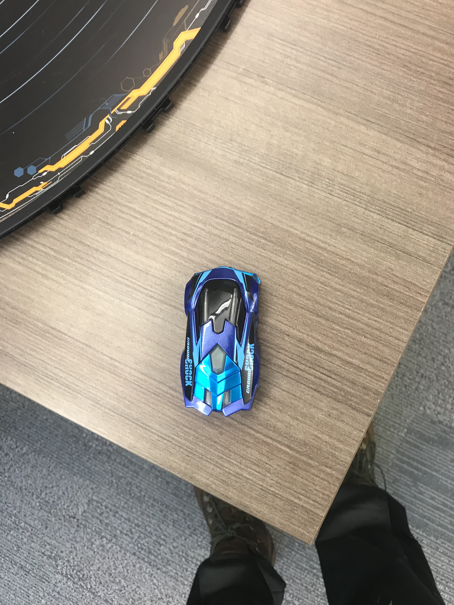Shock: (179, 265, 263, 417)
